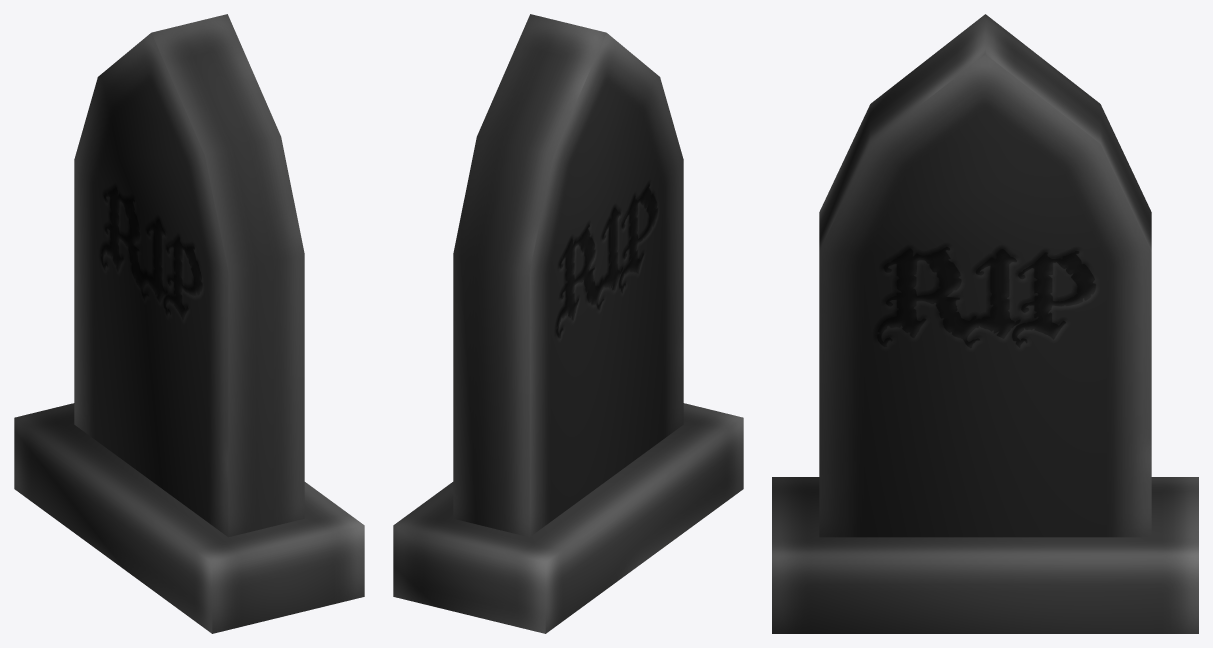
Rendered from tombstone2.fbx.
3 renders of one model, left to right at view 1: azimuth 30°, elevation 25°; view 2: azimuth 150°, elevation 25°; view 3: azimuth 270°, elevation 25°, orthographic. The views are drawn at different scales.
Parts seen in each view (by area): view 1: Cube; view 2: Cube; view 3: Cube.
Part boxes in pixels (bbox=[...]): Cube: bbox=[14, 14, 364, 633]; Cube: bbox=[393, 14, 743, 633]; Cube: bbox=[772, 14, 1198, 633].
Size of the model in its own units: 88.89 by 289 by 200.
